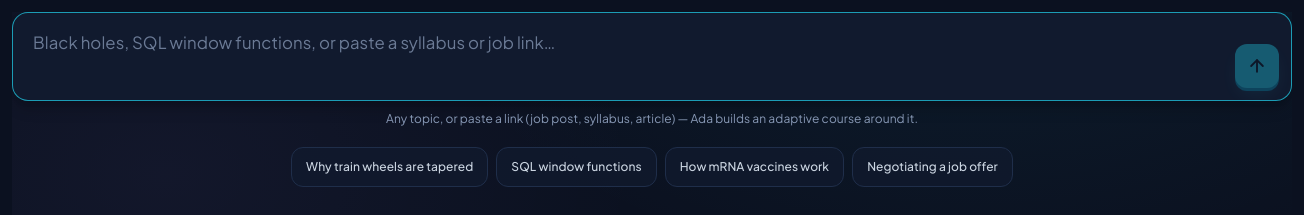
Test: NewCoursePrompt & CourseSetup › populates the topic textarea when clicking an example starter button without auto-submitting
The image size is (1304, 215).
Expected: the text "paste a link (job post, syllabus, article)" is shown, [386, 111, 918, 126]
Step 1. Click the button "SQL window functions" → (577, 167), box [496, 147, 657, 187]
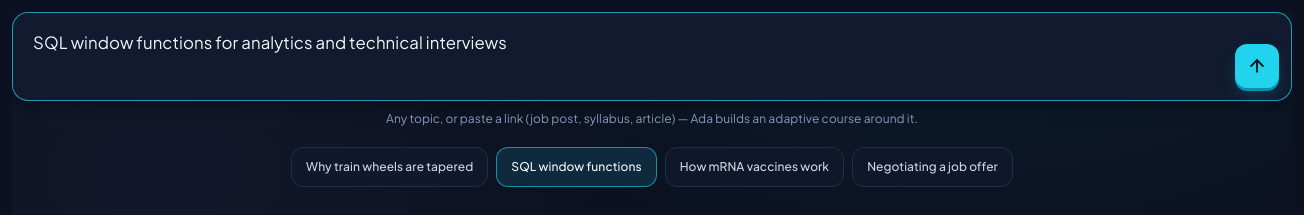
Now the button "SQL window functions" is pressed, box [496, 147, 657, 187]
